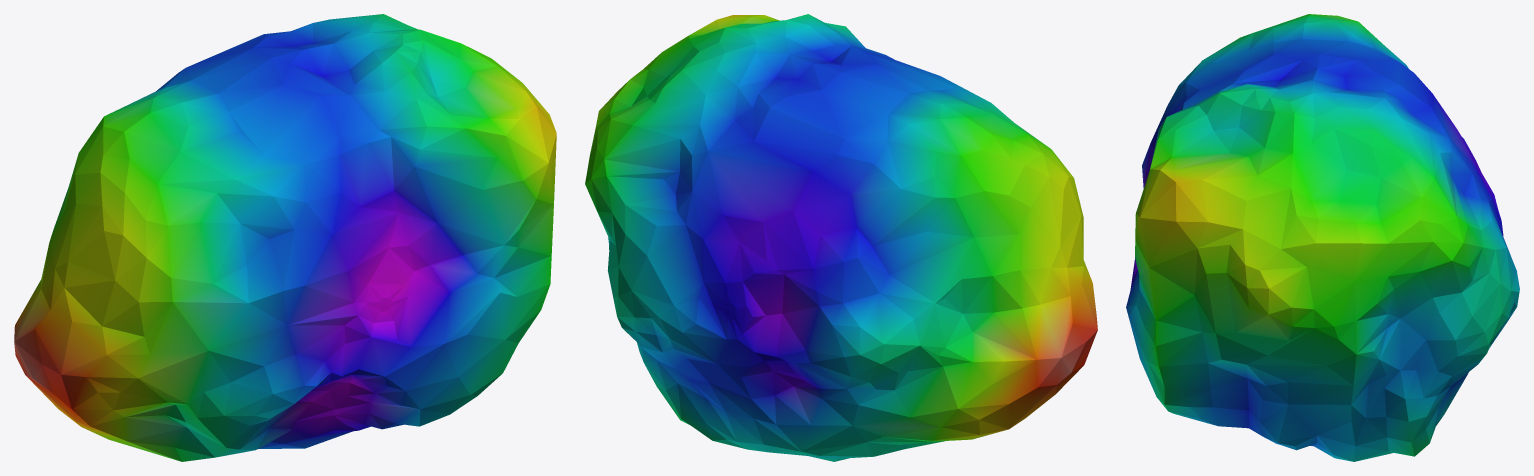
Rendered from Epimetheus-Lo.fbx.
3 renders of one model, left to right at view 1: azimuth 30°, elevation 25°; view 2: azimuth 150°, elevation 25°; view 3: azimuth 270°, elevation 25°, orthographic. The views are drawn at different scales.
Visible parts, largest first — view 1: Epimetheus-Lo; view 2: Epimetheus-Lo; view 3: Epimetheus-Lo.
Part boxes in pixels (box(x1,y1,x2,y2)): Epimetheus-Lo: box(14, 14, 556, 461); Epimetheus-Lo: box(585, 14, 1097, 461); Epimetheus-Lo: box(1126, 14, 1519, 461).
Size of the model in its own units: 10333 by 11194 by 14468.
